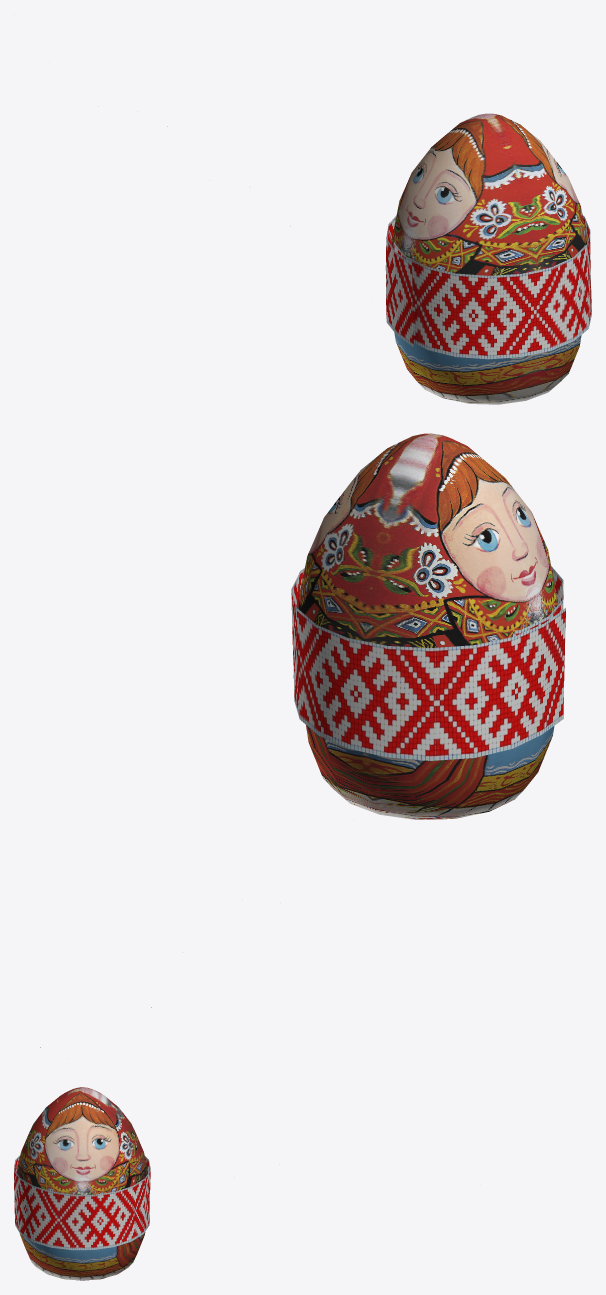
3 renders of one model, top to bottom at view 1: azimuth 30°, elevation 25°; view 2: azimuth 150°, elevation 25°; view 3: azimuth 270°, elevation 25°, orthographic. The views are drawn at different scales.
Parts seen in each view (by area): view 1: matreha_main_004, Plane_004_back; view 2: matreha_main_004, Plane_004_back; view 3: matreha_main_004, Plane_004_back.
Boxes of the visible parts, <box> form: matreha_main_004: <box>391,113,587,404</box>; Plane_004_back: <box>385,215,591,359</box>; matreha_main_004: <box>298,433,558,819</box>; Plane_004_back: <box>291,566,565,760</box>; matreha_main_004: <box>17,1087,147,1280</box>; Plane_004_back: <box>14,1155,150,1250</box>.
Size of what is drawn, in the model's own units: 1.04 by 1.43 by 4.38.
Materials: 12 (3 with a texture image).
